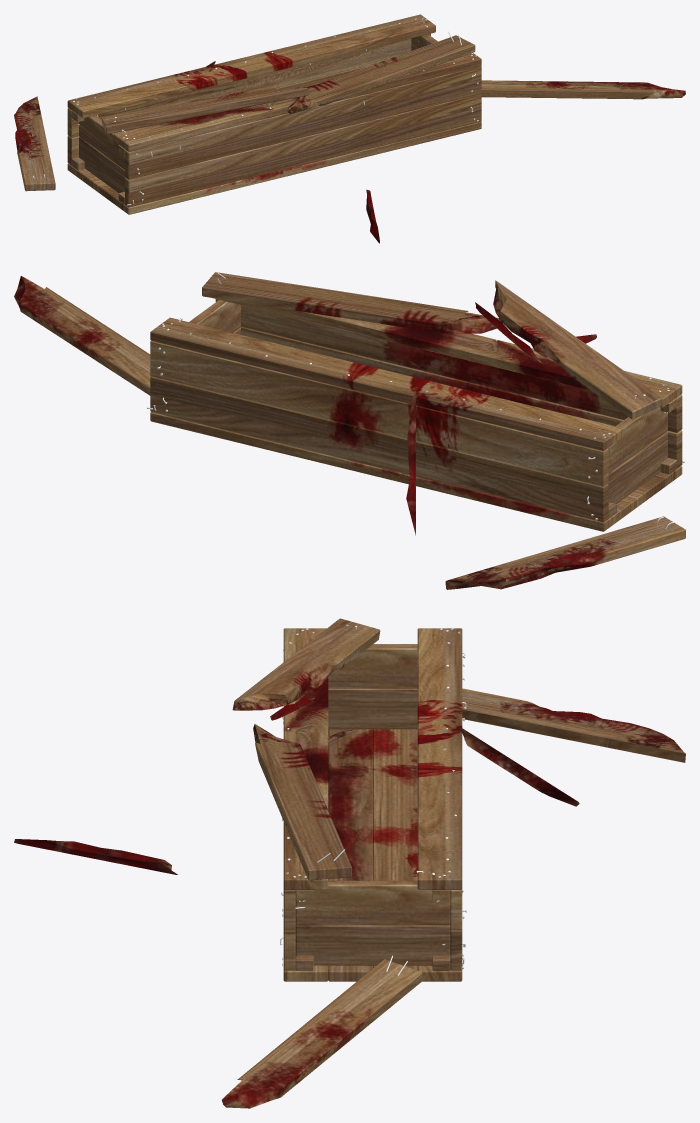
3 renders of one model, top to bottom at view 1: azimuth 30°, elevation 25°; view 2: azimuth 150°, elevation 25°; view 3: azimuth 270°, elevation 25°, orthographic. The views are drawn at different scales.
Visible parts, largest first — view 1: Coffin; view 2: Coffin; view 3: Coffin.
Boxes of the visible parts, <box> form: Coffin: <box>14,14,685,243</box>; Coffin: <box>14,272,685,589</box>; Coffin: <box>14,618,685,1108</box>.
Size of the model in its own units: 131 by 21.74 by 88.86.
Materials: 2 (1 with a texture image).
